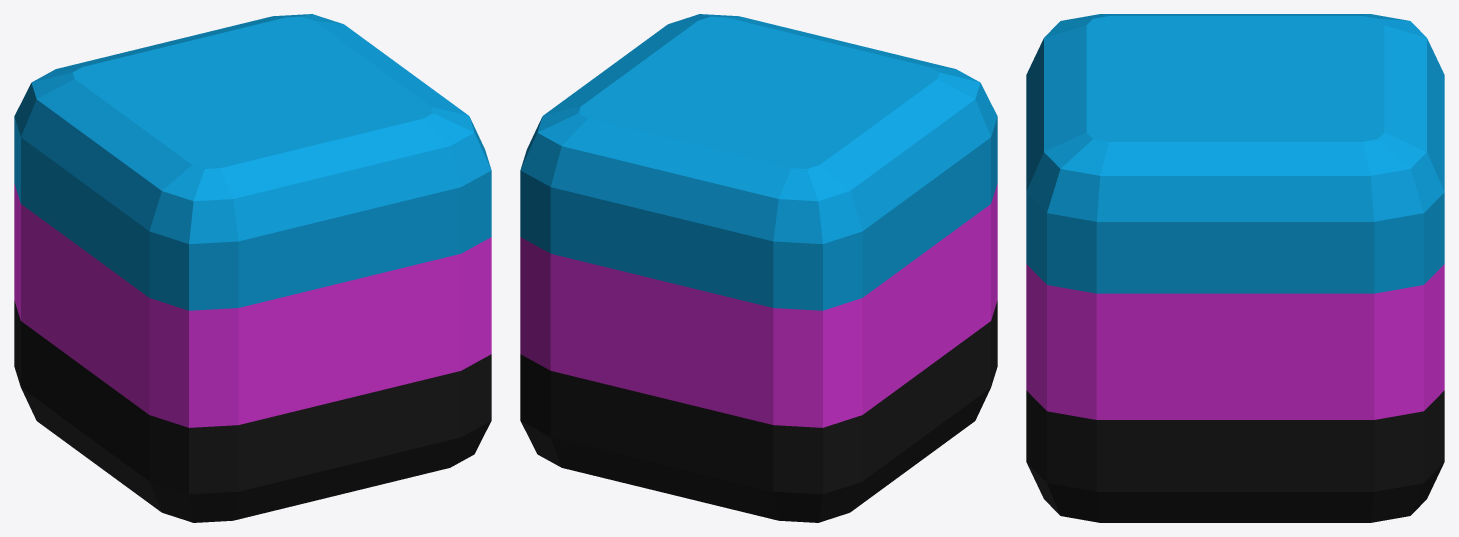
File: Candy.fbx
3 views of the same model, side by side, from view 1: azimuth 30°, elevation 25°; view 2: azimuth 150°, elevation 25°; view 3: azimuth 270°, elevation 25° (orthographic). The views are drawn at different scales.
Visible parts, largest first — view 1: Candy; view 2: Candy; view 3: Candy.
Boxes of the visible parts, left/top/right/bottom form: Candy: left=14, top=14, right=491, bottom=522; Candy: left=520, top=14, right=997, bottom=522; Candy: left=1026, top=14, right=1444, bottom=522.
Size of the model in its own units: 40 by 40 by 40.
